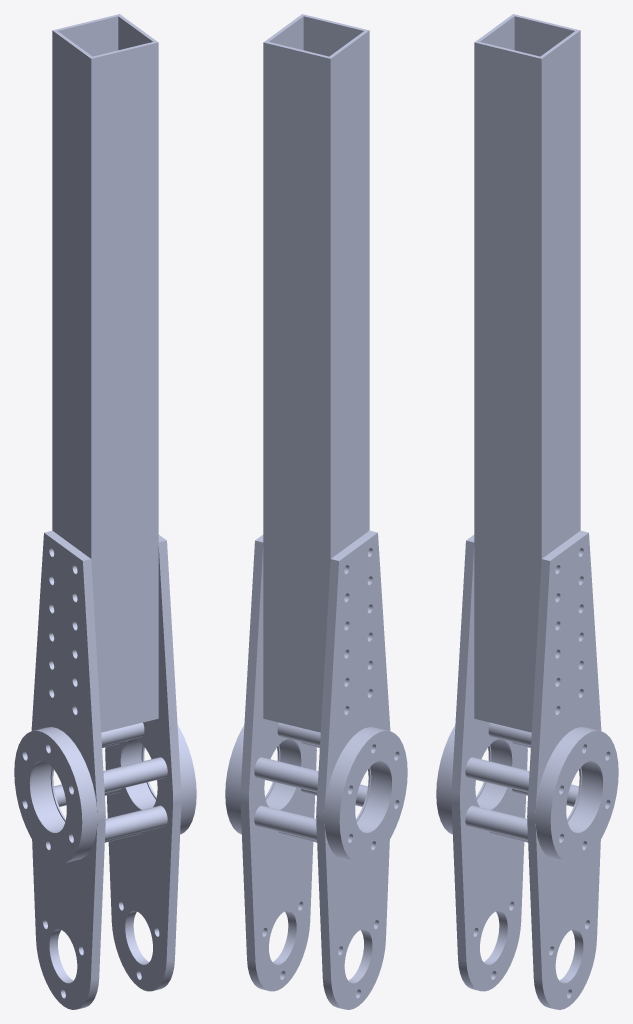
The picture shows the model from 3 angles, left to right: view 1: azimuth 30°, elevation 25°; view 2: azimuth 150°, elevation 25°; view 3: azimuth 330°, elevation 25°; orthographic projection.
Visible parts, largest first — view 1: SOLID (×10); view 2: SOLID (×10); view 3: SOLID (×10).
Part boxes in pixels (bbox=[...]): SOLID (×10): bbox=[14, 14, 196, 1009]; SOLID (×10): bbox=[225, 14, 407, 1009]; SOLID (×10): bbox=[436, 14, 618, 1009].
Size of the model in its own units: 0.068 by 0.5448 by 0.07.
